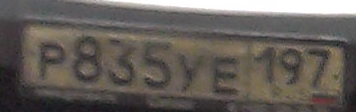character: (137, 38, 176, 94), (71, 31, 104, 89), (105, 30, 134, 93), (210, 55, 244, 101), (306, 42, 335, 90), (177, 47, 203, 100), (38, 39, 67, 86), (255, 42, 280, 88), (281, 44, 306, 89)
